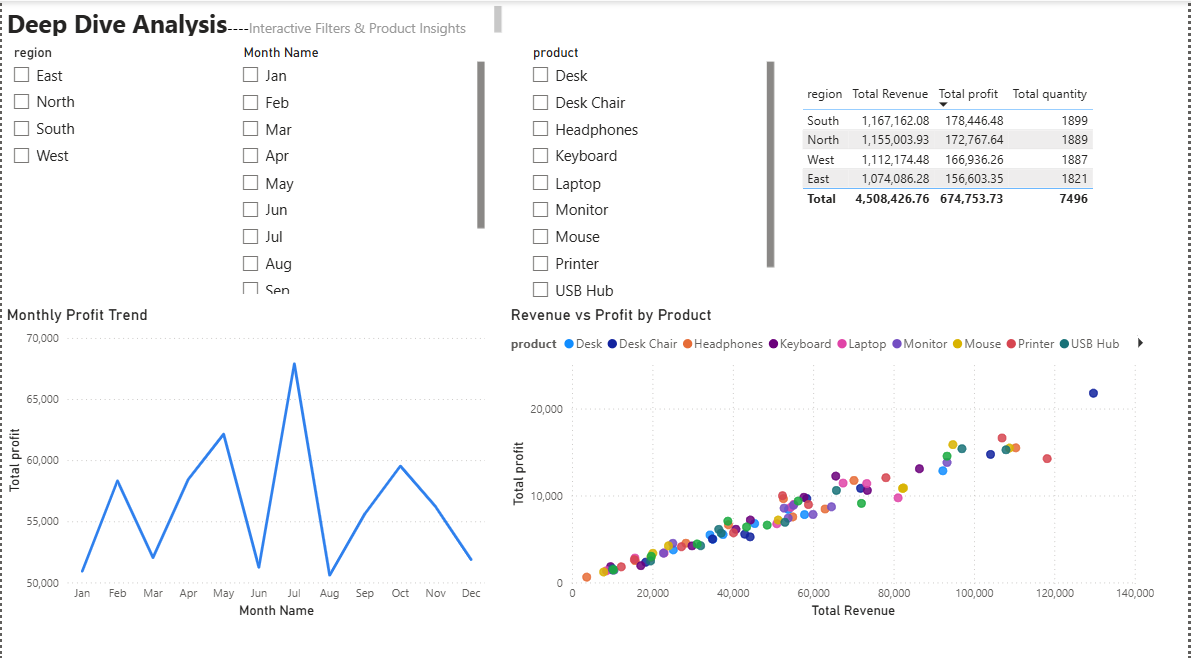

The page's visual inventory and layout, read from the dashboard file:
{"tool":"powerbi","page":{"name":"第 2 页","canvas":[1280,720],"ordinal":1},"visuals":[{"type":"slicer","fields":{"Values":["retail_sales_dataset.region"]},"box":[0,42.1,192.7,278.5],"z":0},{"type":"slicer","fields":{"Values":["retail_sales_dataset.product"]},"box":[560.3,42.1,278.5,281.7],"z":1000},{"type":"slicer","fields":{"Values":["retail_sales_dataset.Month Name"]},"box":[247.7,42.1,278.5,278.5],"z":2000},{"type":"lineChart","title":"Monthly Profit Trend","fields":{"Y":["Sum(retail_sales_dataset.profit)"],"Category":["retail_sales_dataset.Month Name"]},"box":[0,328.7,526.2,341.7],"z":3000},{"type":"scatterChart","title":"Revenue vs Profit by Product","fields":{"X":["Sum(retail_sales_dataset.sales)"],"Y":["Sum(retail_sales_dataset.profit)"],"Series":["retail_sales_dataset.product"],"Category":["retail_sales_dataset.quantity"]},"box":[544.1,328.7,704.4,341.7],"z":4000},{"type":"tableEx","fields":{"Values":["retail_sales_dataset.region","Sum(retail_sales_dataset.sales)","Sum(retail_sales_dataset.profit)","Sum(retail_sales_dataset.quantity)"]},"box":[858.2,84.2,390.2,236.4],"z":5000},{"type":"textbox","box":[0,0,544.1,42.1],"z":5001}]}

Visuals, with their boxes in screenshot pixels (x1, y1, x2, y2), scaled from the page's 1280x720 canvas onto the 1191x658 screenshot:
slicer - retail_sales_dataset.region: detection(0, 38, 179, 293)
slicer - retail_sales_dataset.product: detection(521, 38, 780, 296)
slicer - retail_sales_dataset.Month Name: detection(230, 38, 490, 293)
"Monthly Profit Trend" lineChart: detection(0, 300, 490, 613)
"Revenue vs Profit by Product" scatterChart: detection(506, 300, 1162, 613)
tableEx - retail_sales_dataset.region x Sum(retail_sales_dataset.sales): detection(799, 77, 1162, 293)
textbox: detection(0, 0, 506, 38)
